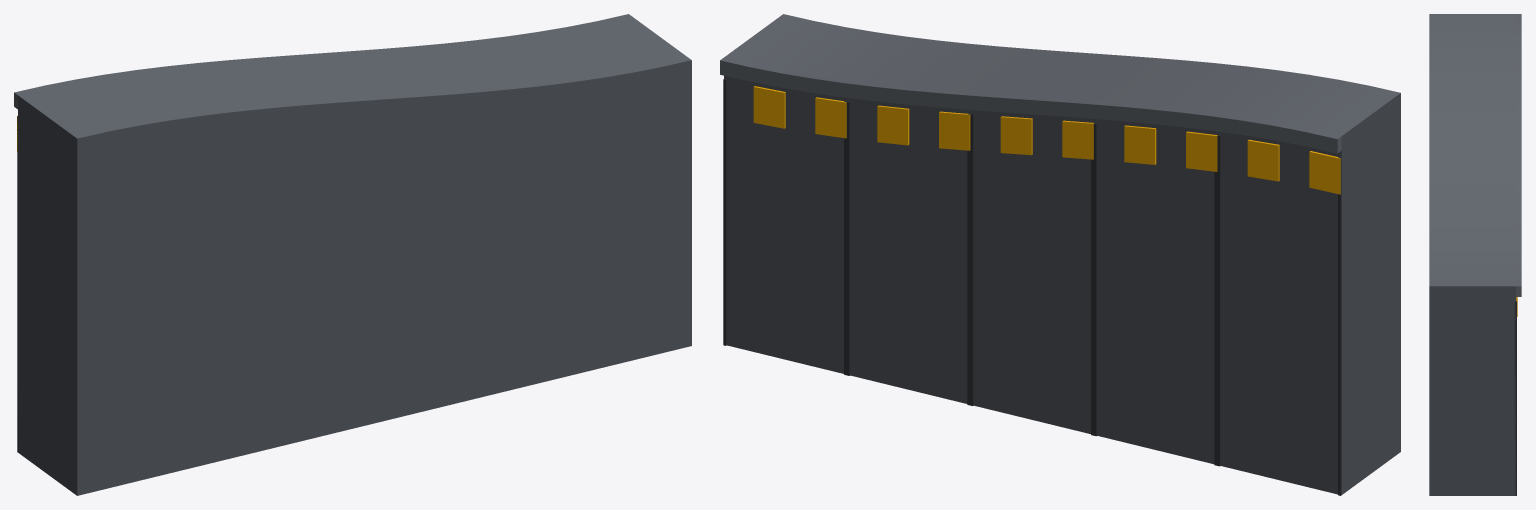
3 views of the same model, side by side, from view 1: azimuth 30°, elevation 25°; view 2: azimuth 150°, elevation 25°; view 3: azimuth 270°, elevation 25° (orthographic). The views are drawn at different scales.
Parts seen in each view (by area): view 1: c0wf; view 2: c0wf; view 3: c0wf.
Boxes of the visible parts, x1,y1,x2,y2 form: c0wf: [14, 14, 691, 495]; c0wf: [720, 14, 1400, 495]; c0wf: [1429, 14, 1521, 495].
Size of the model in its own units: 9 by 5 by 1.6.
